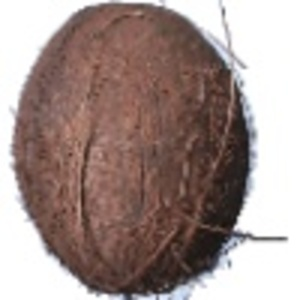coco: (12, 1, 272, 300)
